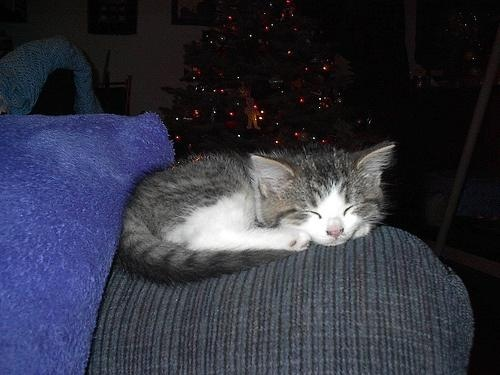cat: (119, 141, 397, 287)
